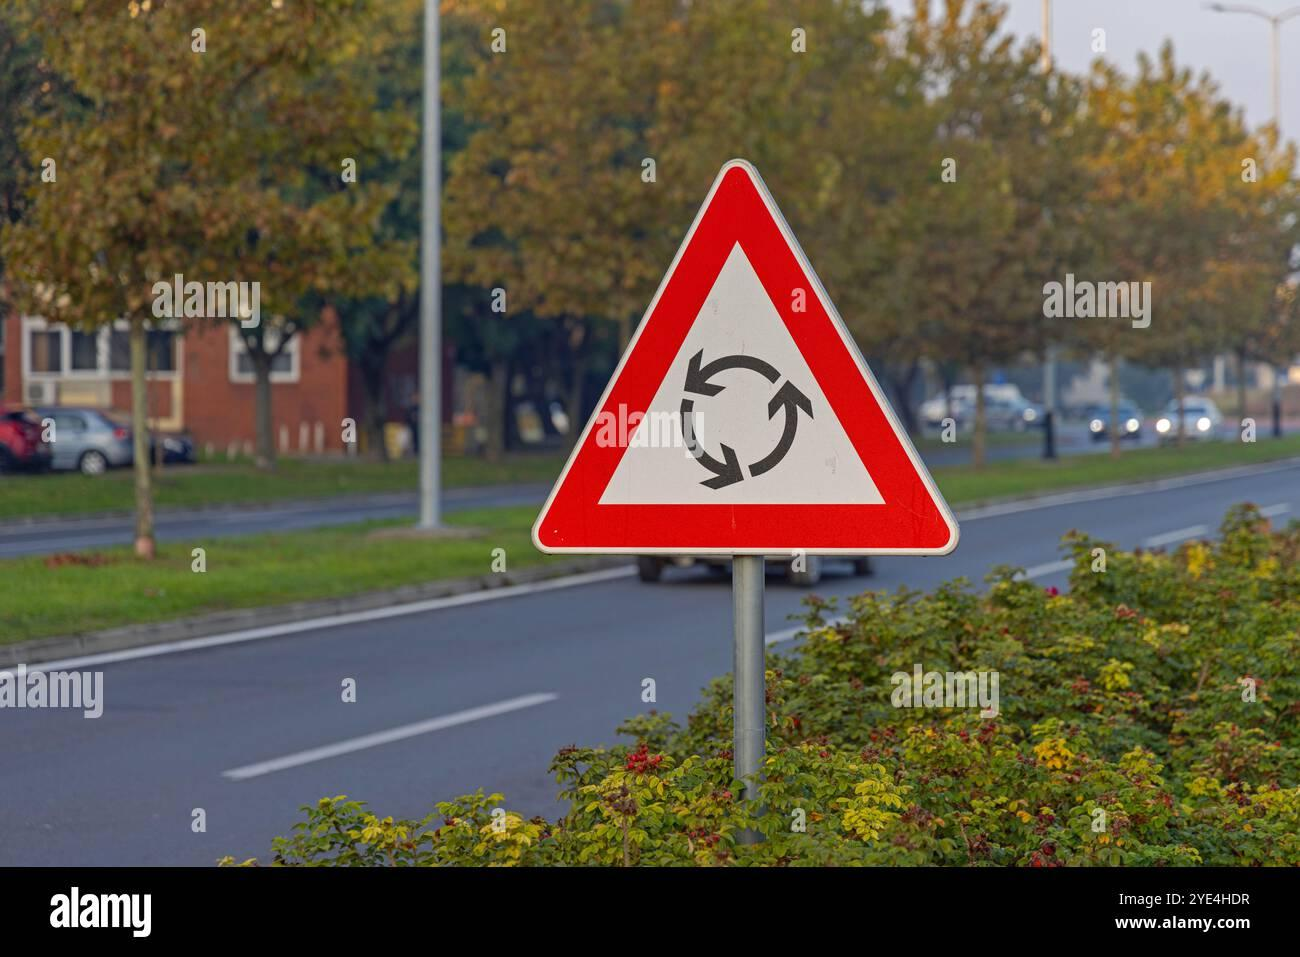round-about: (541, 159, 953, 554)
